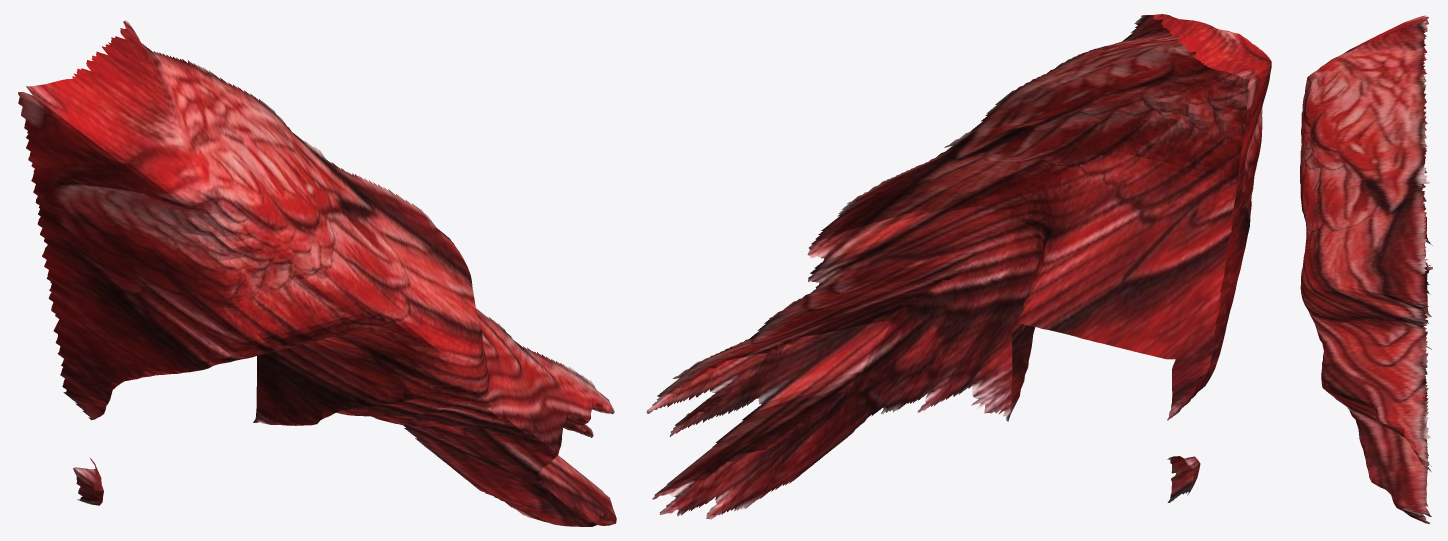
The model's file is wing_dorsal.obj.
The picture shows the model from 3 angles, left to right: view 1: azimuth 30°, elevation 25°; view 2: azimuth 150°, elevation 25°; view 3: azimuth 270°, elevation 25°; orthographic projection. The views are drawn at different scales.
Parts seen in each view (by area): view 1: wing_dorsal; view 2: wing_dorsal; view 3: wing_dorsal.
Boxes of the visible parts, x1,y1,x2,y2 form: wing_dorsal: (18,20,616,526); wing_dorsal: (646,14,1271,519); wing_dorsal: (1300,15,1432,523).
Size of the model in its own units: 1.16 by 1.16 by 0.3795.
1 material, 1 textured.
